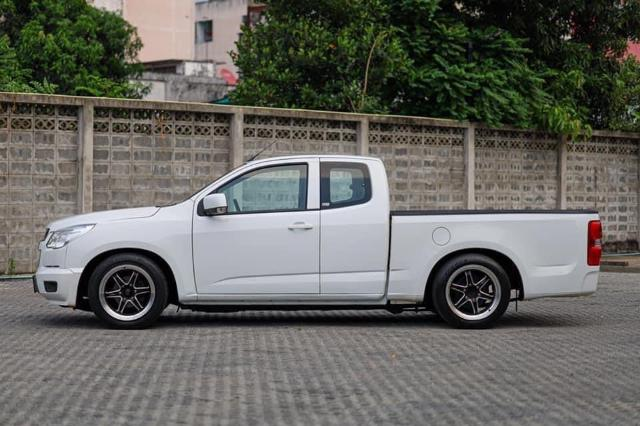pickup-truck: (23, 146, 608, 361)
